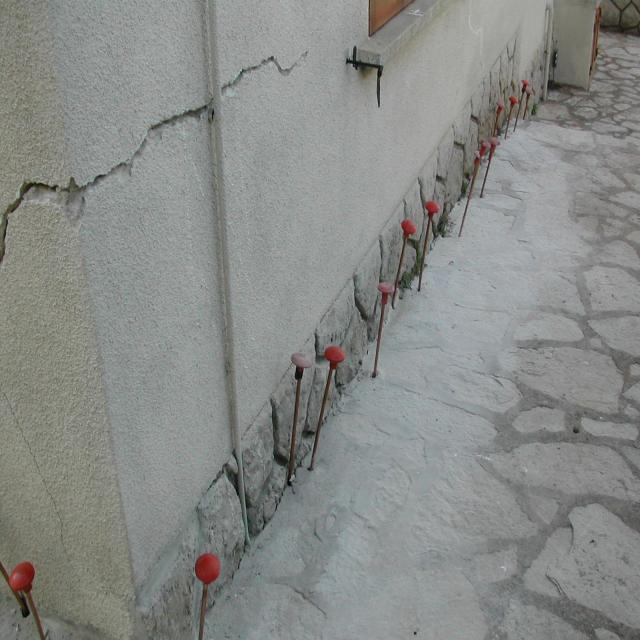crack: (0, 98, 214, 256), (218, 52, 304, 94)
